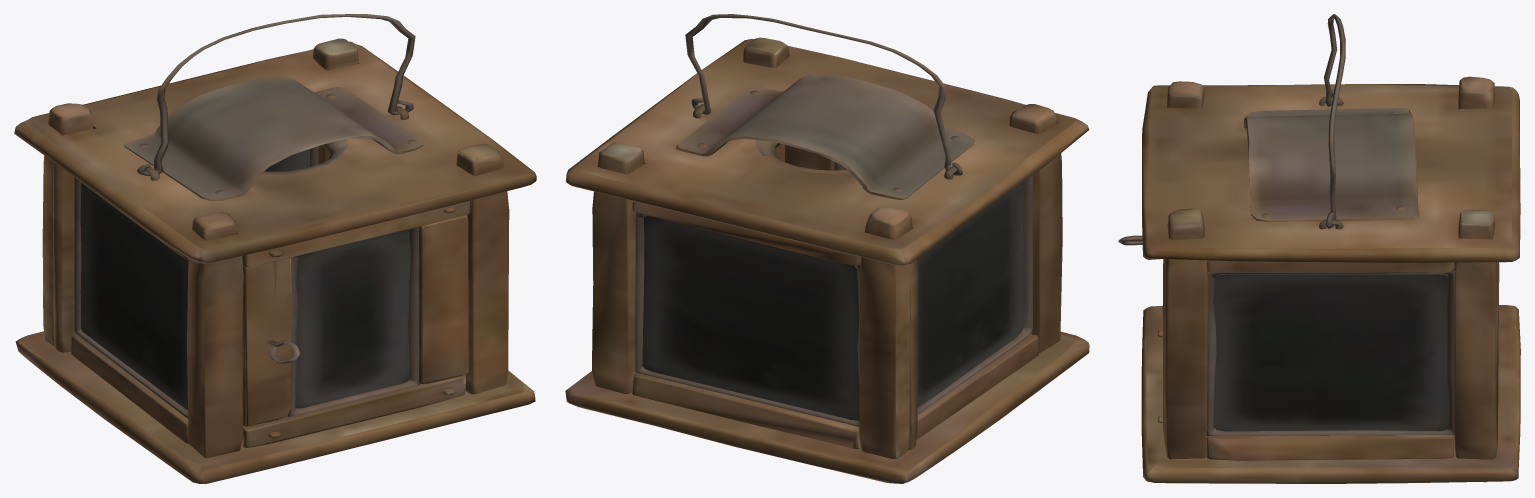
Rendered from ph-wooden-lantern-01.glb.
3 renders of one model, left to right at view 1: azimuth 30°, elevation 25°; view 2: azimuth 150°, elevation 25°; view 3: azimuth 270°, elevation 25°, orthographic.
Visible parts, largest first — view 1: wooden_lantern_01; view 2: wooden_lantern_01; view 3: wooden_lantern_01.
Part boxes in pixels (box(x1,y1,x2,y2)): wooden_lantern_01: box(14, 14, 536, 483); wooden_lantern_01: box(565, 14, 1089, 483); wooden_lantern_01: box(1118, 14, 1520, 483).
Size of the model in its own units: 1 by 0.999 by 1.
2 materials, 2 textured.
